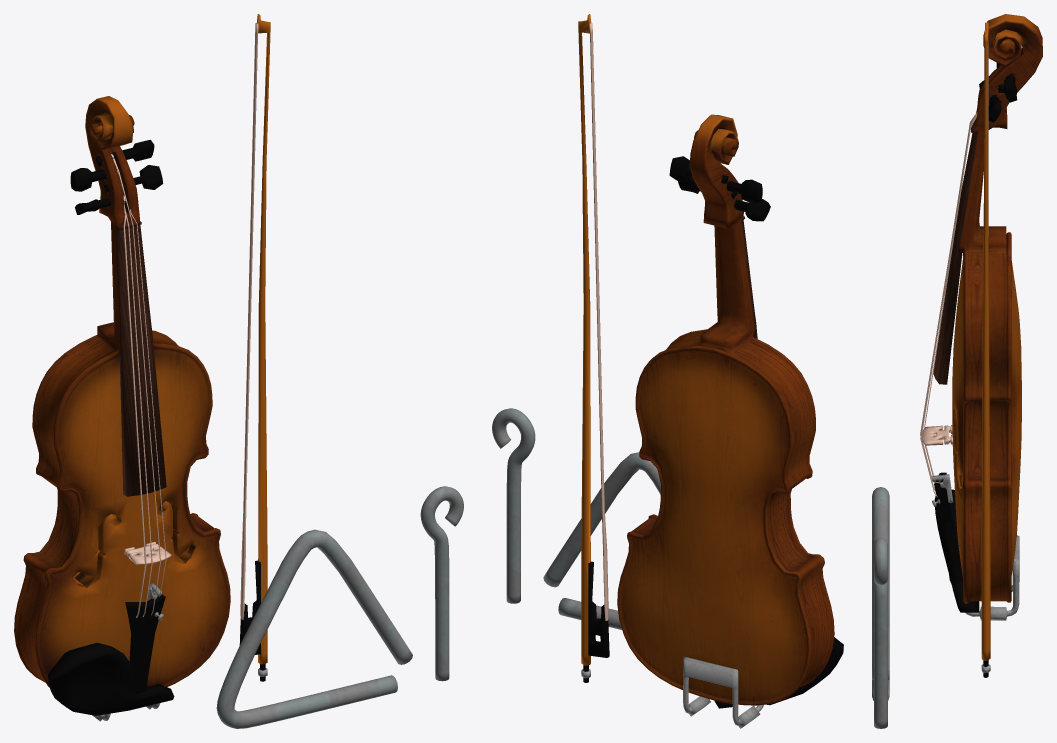
File: Triangle_Violin.fbx
3 views of the same model, side by side, from view 1: azimuth 30°, elevation 25°; view 2: azimuth 150°, elevation 25°; view 3: azimuth 270°, elevation 25° (orthographic). The views are drawn at different scales.
Parts seen in each view (by area): view 1: Violin_low, Triangle_body_low.001, Smichok_low, Podborodnik_low, Triangle_stick_low.001, Strings_low, Grif_Bottom_low; view 2: Violin_low, Smichok_low, Triangle_stick_low.001, Triangle_body_low.001, Podborodnik_Bottom_low, Podborodnik_low, Kolki_04_low; view 3: Violin_low, Smichok_low, Triangle_stick_low.001, Triangle_body_low.001, Strings_low, Grif_Bottom_low, Podborodnik_low, Podborodnik_Bottom_low, String_Support_low, Kolki_03_low, Kolki_01_low.
Boxes of the visible parts, x1=… form: Violin_low: x1=14, y1=96, x2=230, y2=687; Triangle_body_low.001: x1=216, y1=529, x2=412, y2=728; Smichok_low: x1=239, y1=14, x2=270, y2=681; Podborodnik_low: x1=48, y1=642, x2=174, y2=715; Triangle_stick_low.001: x1=420, y1=486, x2=463, y2=681; Strings_low: x1=111, y1=153, x2=166, y2=617; Grif_Bottom_low: x1=125, y1=594, x2=165, y2=693; Violin_low: x1=617, y1=114, x2=834, y2=708; Smichok_low: x1=578, y1=14, x2=609, y2=682; Triangle_stick_low.001: x1=492, y1=408, x2=535, y2=603; Triangle_body_low.001: x1=543, y1=452, x2=660, y2=629; Podborodnik_Bottom_low: x1=683, y1=657, x2=763, y2=728; Podborodnik_low: x1=767, y1=637, x2=843, y2=705; Kolki_04_low: x1=726, y1=179, x2=762, y2=203; Violin_low: x1=933, y1=14, x2=1042, y2=603; Smichok_low: x1=981, y1=22, x2=990, y2=677; Triangle_stick_low.001: x1=874, y1=538, x2=887, y2=728; Triangle_body_low.001: x1=872, y1=487, x2=889, y2=700; Strings_low: x1=920, y1=87, x2=998, y2=497; Grif_Bottom_low: x1=934, y1=472, x2=962, y2=582; Podborodnik_low: x1=934, y1=489, x2=979, y2=612; Podborodnik_Bottom_low: x1=965, y1=535, x2=1019, y2=620; String_Support_low: x1=921, y1=425, x2=953, y2=445; Kolki_03_low: x1=1004, y1=74, x2=1017, y2=102; Kolki_01_low: x1=988, y1=95, x2=1001, y2=122.
Bounding box in the file's own units: 47.54 × 78.85 × 18.71.
Materials: 3 (3 with a texture image).
